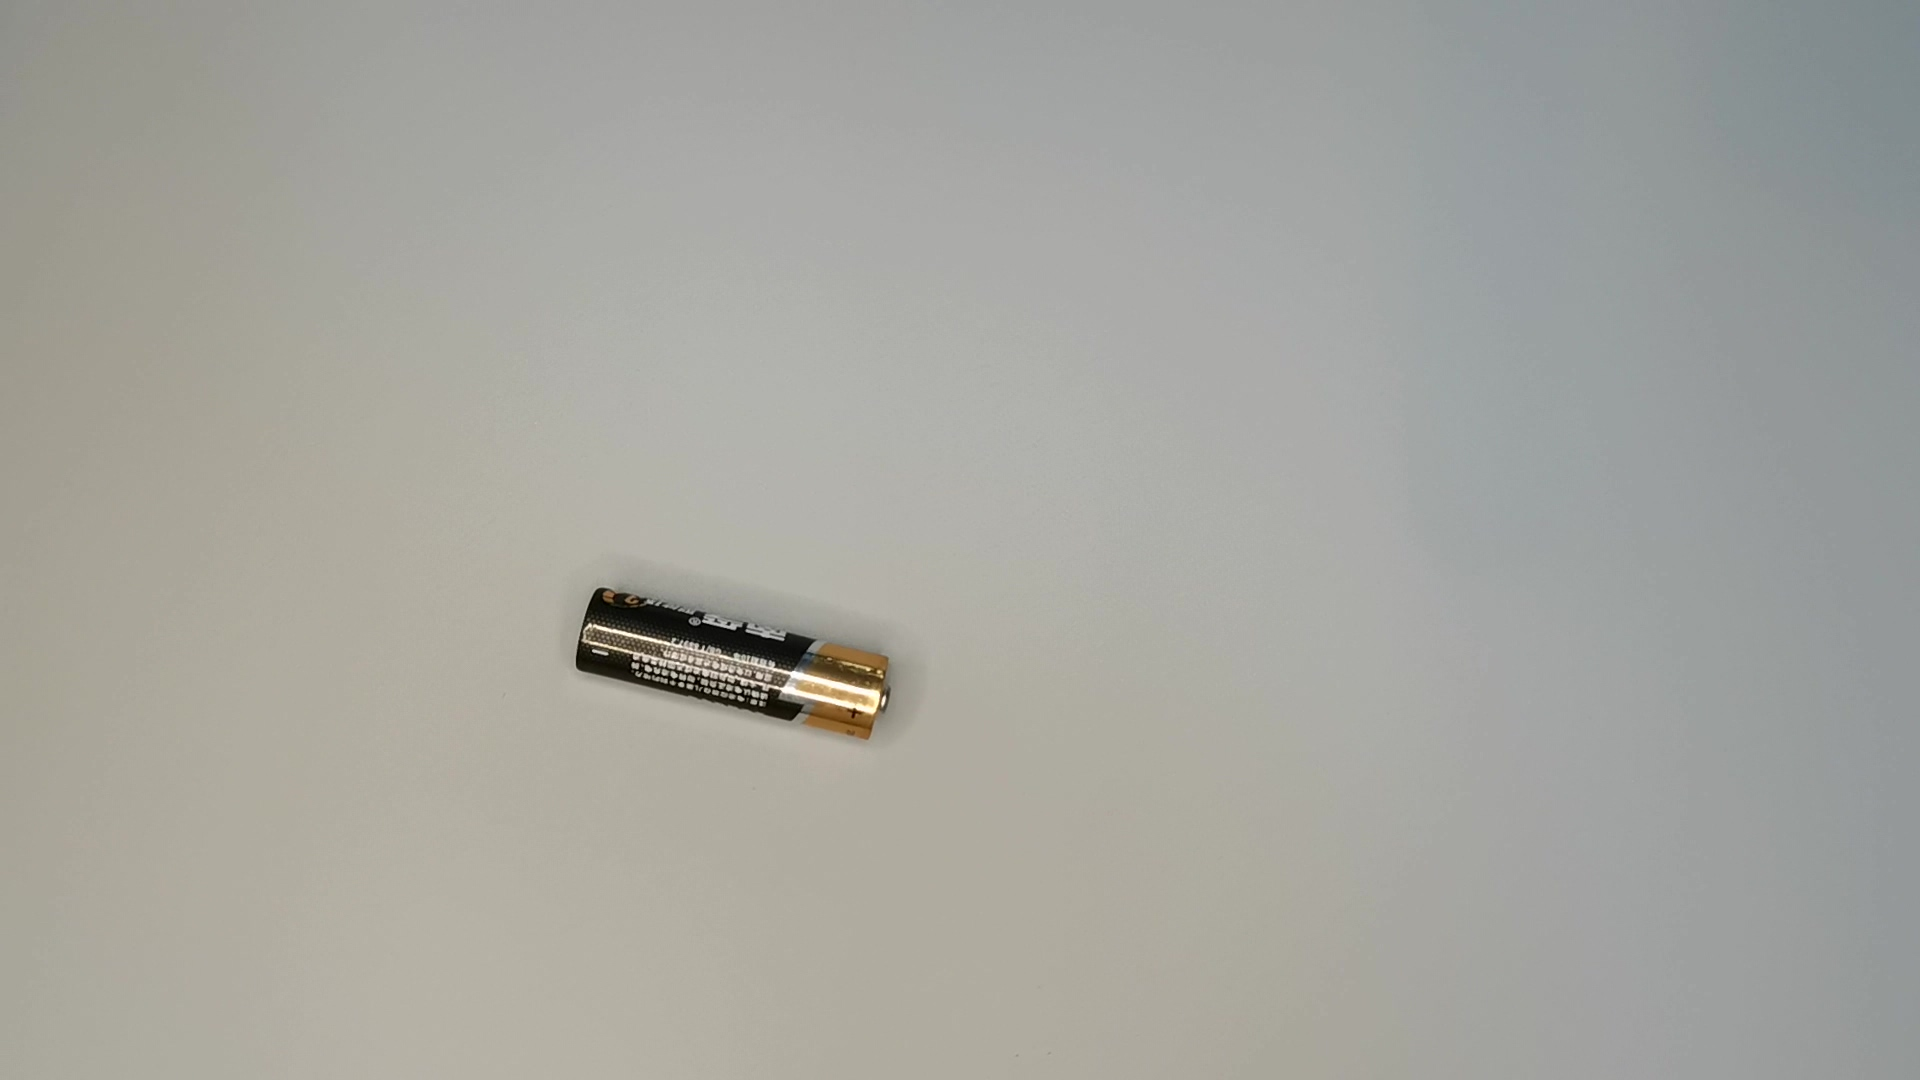battery: (563, 580, 906, 750)
